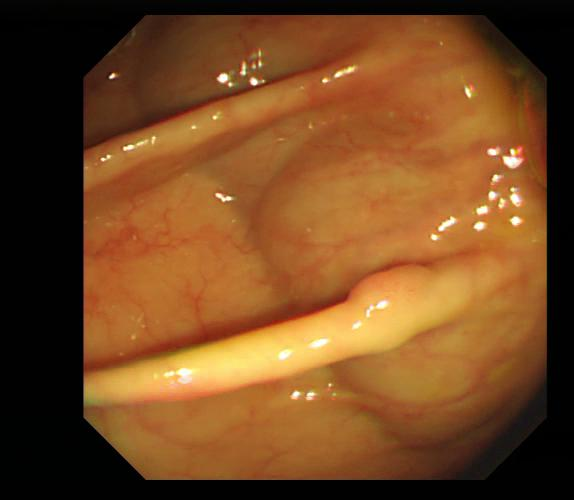polyp: (349, 261, 434, 307)
